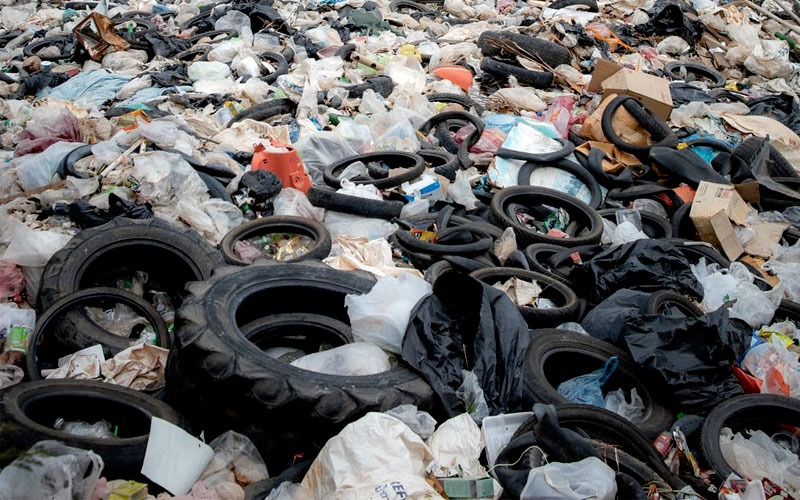llanta: (198, 274, 401, 412), (66, 218, 212, 285), (35, 297, 157, 364), (29, 386, 167, 438), (525, 411, 645, 463), (715, 410, 800, 468), (328, 153, 424, 204), (501, 188, 593, 236), (485, 261, 567, 312), (548, 350, 639, 395), (239, 217, 322, 262), (399, 214, 487, 251), (522, 160, 602, 197), (611, 96, 666, 145), (418, 108, 462, 163)
